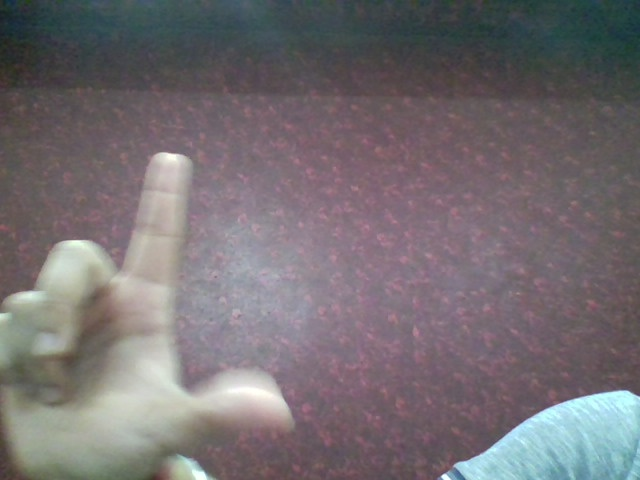l: (4, 143, 310, 471)
